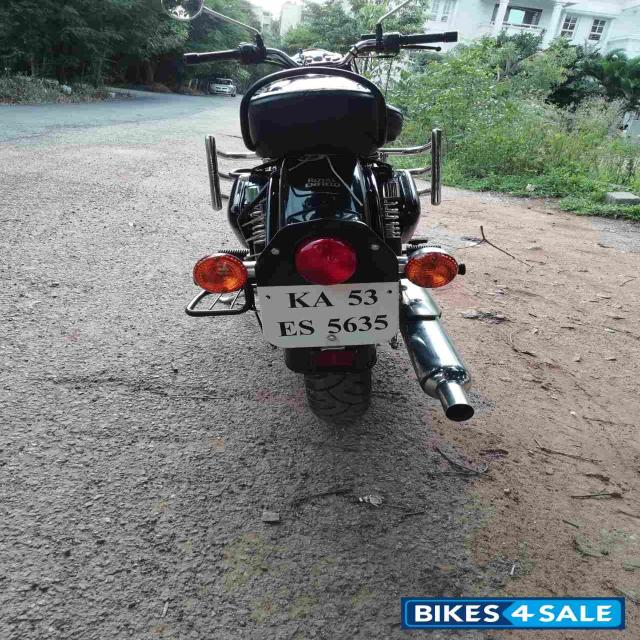number plate: (254, 280, 401, 349)
